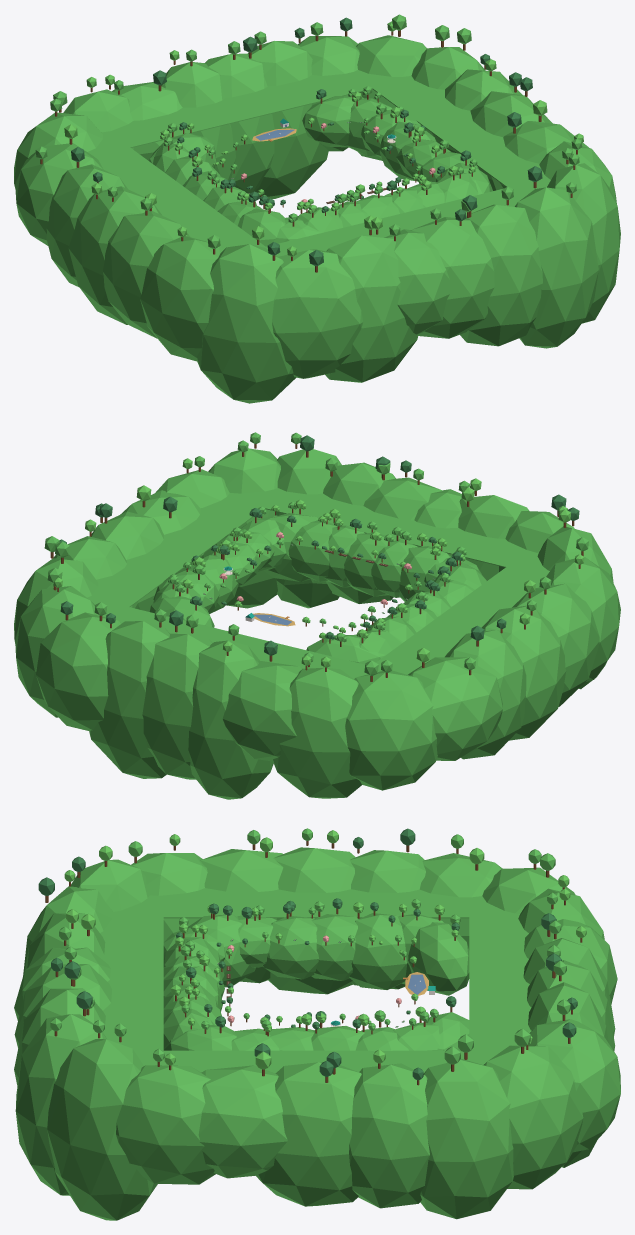
File: CatCafe_Park_Backdrop.glb
The picture shows the model from 3 angles, top to bottom: view 1: azimuth 30°, elevation 25°; view 2: azimuth 150°, elevation 25°; view 3: azimuth 270°, elevation 25°; orthographic projection. The views are drawn at different scales.
Visible parts, largest first — view 1: CatCafe_Park_Backdrop_HillsFar, CatCafe_Park_Backdrop_Ground, CatCafe_Park_Backdrop_Hills, CatCafe_Park_Backdrop; view 2: CatCafe_Park_Backdrop_HillsFar, CatCafe_Park_Backdrop_Ground, CatCafe_Park_Backdrop_Hills, CatCafe_Park_Backdrop; view 3: CatCafe_Park_Backdrop_HillsFar, CatCafe_Park_Backdrop_Hills, CatCafe_Park_Backdrop_Ground, CatCafe_Park_Backdrop.
Part boxes in pixels (bbox=[...]): CatCafe_Park_Backdrop_HillsFar: bbox=[14, 35, 620, 403]; CatCafe_Park_Backdrop_Ground: bbox=[87, 70, 550, 256]; CatCafe_Park_Backdrop_Hills: bbox=[149, 96, 492, 246]; CatCafe_Park_Backdrop: bbox=[35, 14, 583, 272]; CatCafe_Park_Backdrop_HillsFar: bbox=[14, 448, 620, 799]; CatCafe_Park_Backdrop_Ground: bbox=[87, 488, 549, 678]; CatCafe_Park_Backdrop_Hills: bbox=[149, 513, 486, 664]; CatCafe_Park_Backdrop: bbox=[44, 432, 588, 681]; CatCafe_Park_Backdrop_HillsFar: bbox=[14, 847, 620, 1220]; CatCafe_Park_Backdrop_Hills: bbox=[163, 913, 469, 1051]; CatCafe_Park_Backdrop_Ground: bbox=[100, 888, 531, 1073]; CatCafe_Park_Backdrop: bbox=[38, 828, 586, 1085].
Bounding box in the file's own units: 631 × 226 × 615.
1 material, 1 textured.
